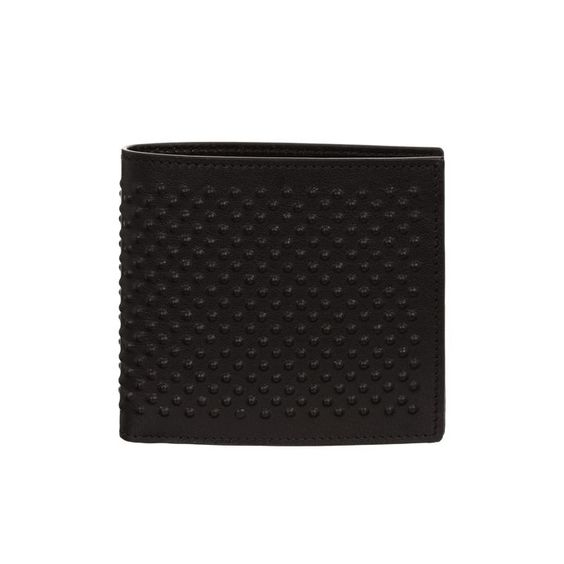monedero: (115, 139, 449, 452)
